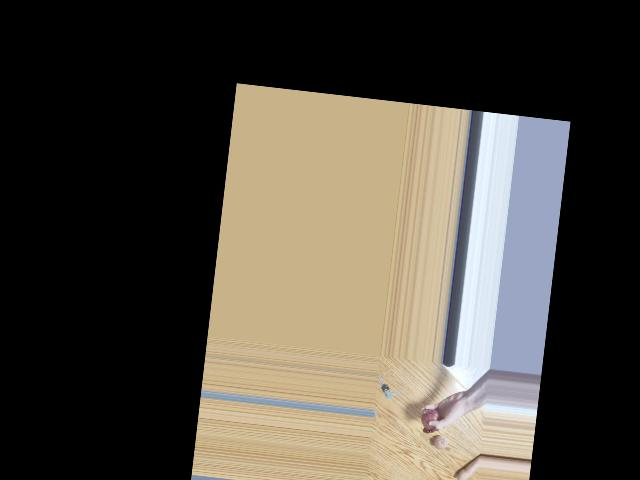onion: (432, 429, 452, 452)
